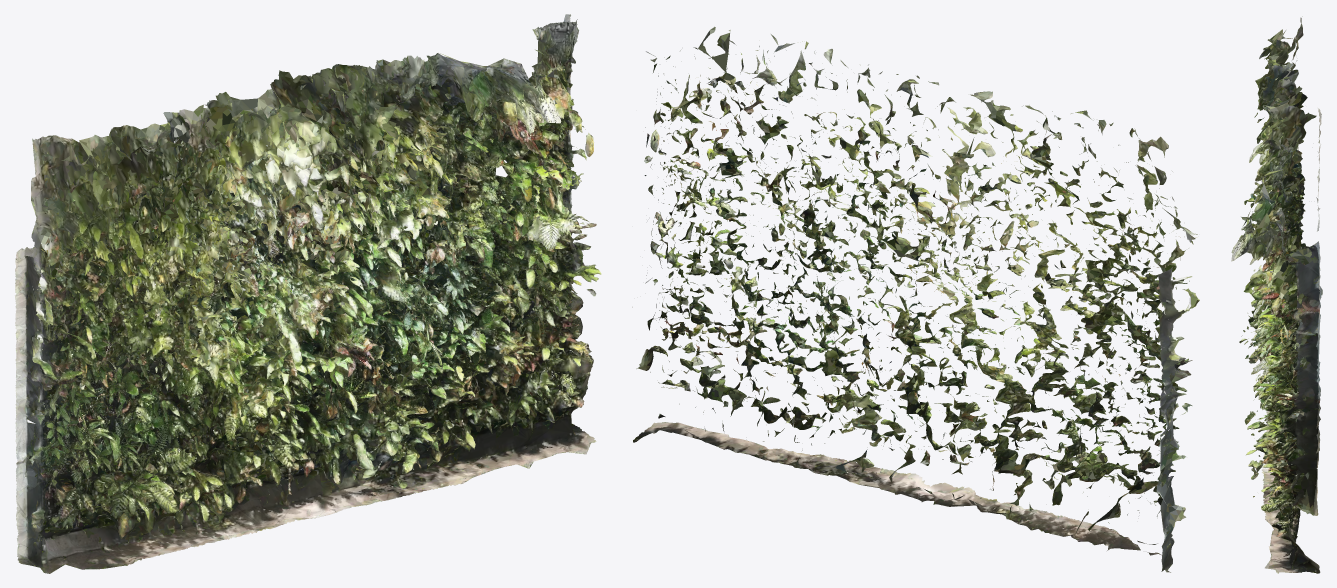
The model's file is plantwall.glb.
3 renders of one model, left to right at view 1: azimuth 30°, elevation 25°; view 2: azimuth 150°, elevation 25°; view 3: azimuth 270°, elevation 25°, orthographic. The views are drawn at different scales.
Visible parts, largest first — view 1: Stereo textured mesh_Material0_0; view 2: Stereo textured mesh_Material0_0; view 3: Stereo textured mesh_Material0_0.
Boxes of the visible parts, x1=… form: Stereo textured mesh_Material0_0: x1=15, y1=14, x2=601, y2=573; Stereo textured mesh_Material0_0: x1=632, y1=26, x2=1199, y2=572; Stereo textured mesh_Material0_0: x1=1231, y1=16, x2=1322, y2=573.
Size of the model in its own units: 5.15 by 3.86 by 0.9105.
1 material, 1 textured.
